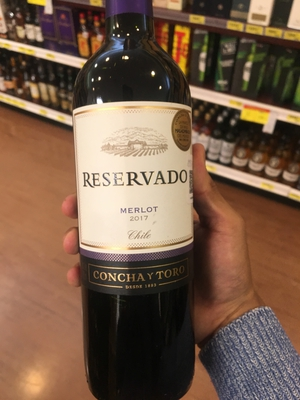reservado merlot: (69, 19, 206, 393)
